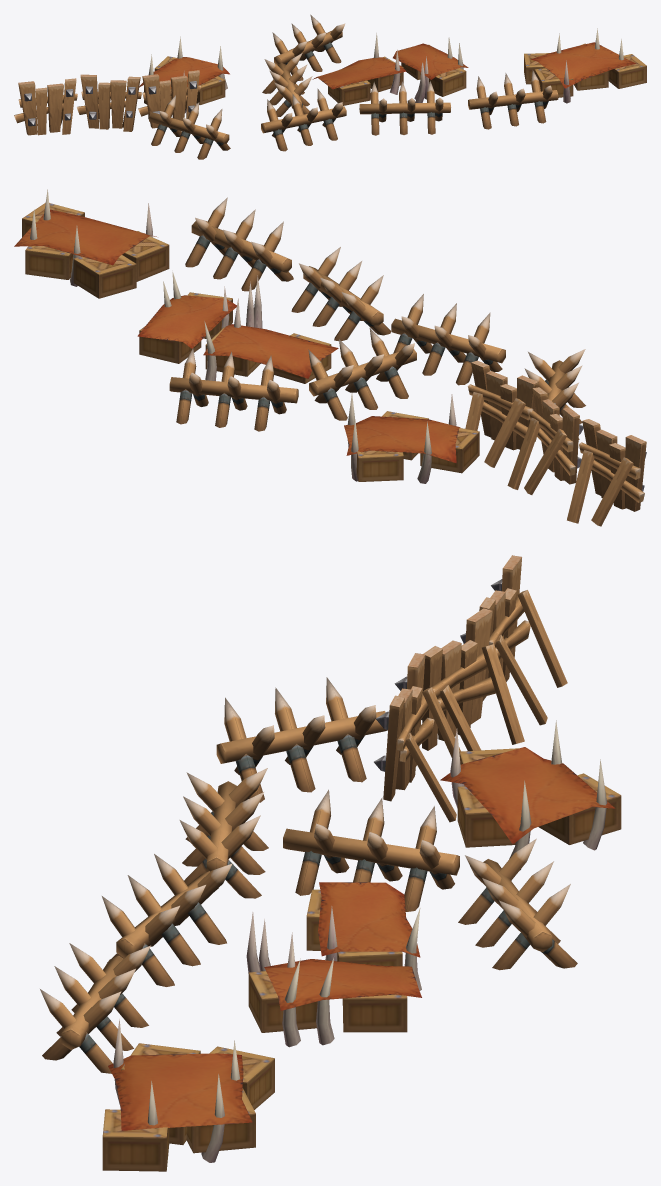
File: area_02_15.fbx
3 views of the same model, one above another, from view 1: azimuth 30°, elevation 25°; view 2: azimuth 150°, elevation 25°; view 3: azimuth 270°, elevation 25° (orthographic). The views are drawn at different scales.
Parts seen in each view (by area): view 1: area_02_15; view 2: area_02_15; view 3: area_02_15.
Part boxes in pixels (x1,y1,x2,y2): area_02_15: (14,14,646,159); area_02_15: (14,189,646,526); area_02_15: (40,555,621,1171).
Bounding box in the file's own units: 35.41 × 3.99 × 16.88.
